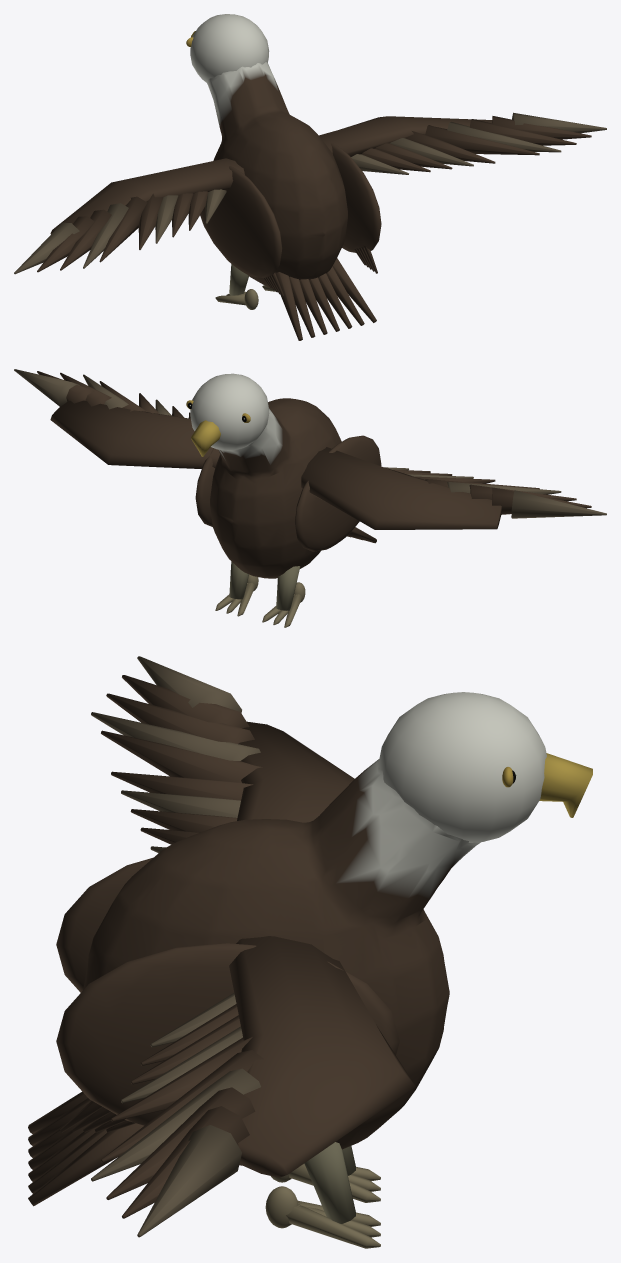
The model's file is animal_baldeagle.glb.
The picture shows the model from 3 angles, top to bottom: view 1: azimuth 30°, elevation 25°; view 2: azimuth 150°, elevation 25°; view 3: azimuth 270°, elevation 25°; orthographic projection. The views are drawn at different scales.
Visible parts, largest first — view 1: Body, WingL, WingR, FoldedWings, LegFL; view 2: Body, WingL, WingR, FoldedWings, LegFL, LegFR; view 3: Body, WingR, WingL, FoldedWings, LegFR, LegFL.
Part boxes in pixels (x1=…): Body: x1=186, y1=14, x2=376, y2=340; WingL: x1=14, y1=158, x2=244, y2=274; WingR: x1=319, y1=112, x2=606, y2=174; FoldedWings: x1=200, y1=143, x2=381, y2=296; LegFL: x1=215, y1=264, x2=258, y2=309; Body: x1=186, y1=373, x2=376, y2=578; WingL: x1=301, y1=447, x2=606, y2=529; WingR: x1=14, y1=369, x2=219, y2=468; FoldedWings: x1=195, y1=435, x2=381, y2=551; LegFL: x1=262, y1=566, x2=305, y2=627; LegFR: x1=215, y1=561, x2=258, y2=616; Body: x1=28, y1=692, x2=592, y2=1206; WingR: x1=91, y1=936, x2=415, y2=1237; WingL: x1=91, y1=656, x2=354, y2=853; FoldedWings: x1=56, y1=857, x2=399, y2=1132; LegFR: x1=265, y1=1142, x2=380, y2=1248; LegFL: x1=271, y1=1146, x2=380, y2=1202.
Bounding box in the file's own units: 2.15 × 0.8937 × 0.888.
